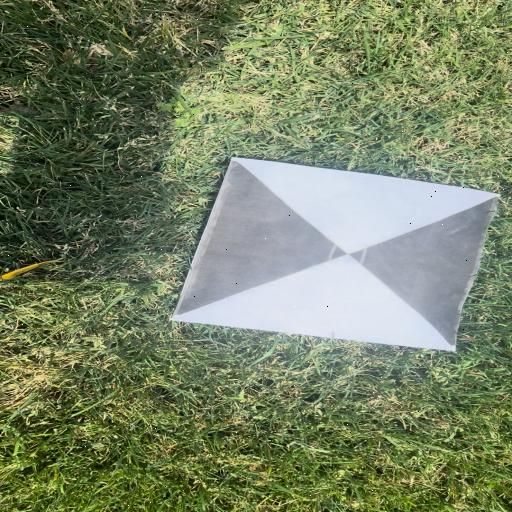target: (171, 157, 502, 350)
